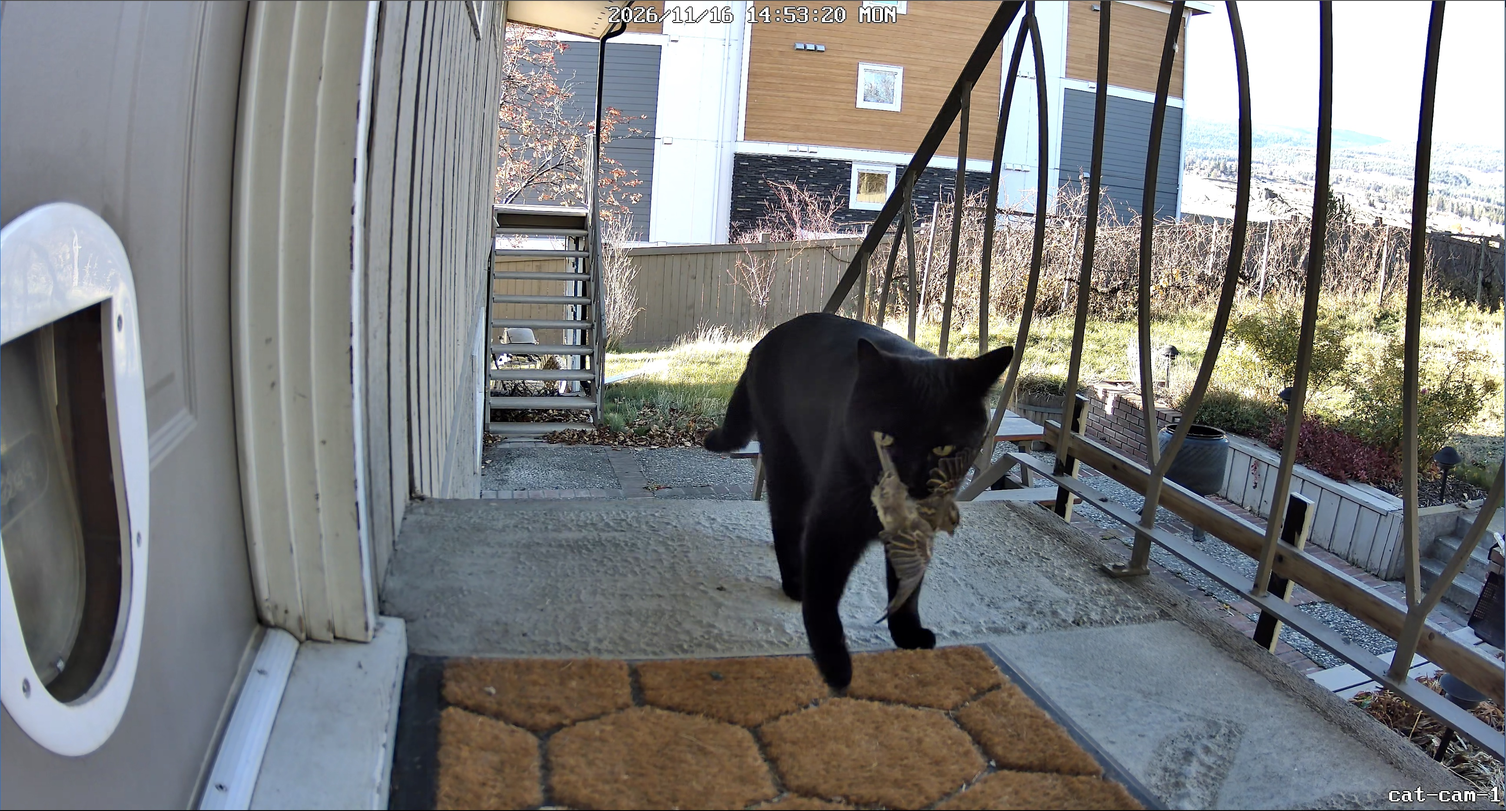prey: (866, 430, 967, 615)
